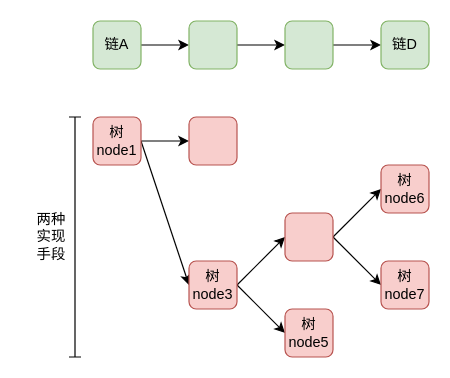
Some shapes in this 450 by 378 pixel diagram are drawn without their labels. The shapes that lost their labels are listed below. From the top down, each one's centre as x and y in pixels, then its label:
point 212,44: 链B
point 308,44: 链C
point 212,140: 树 node2
point 308,236: 树 node4
